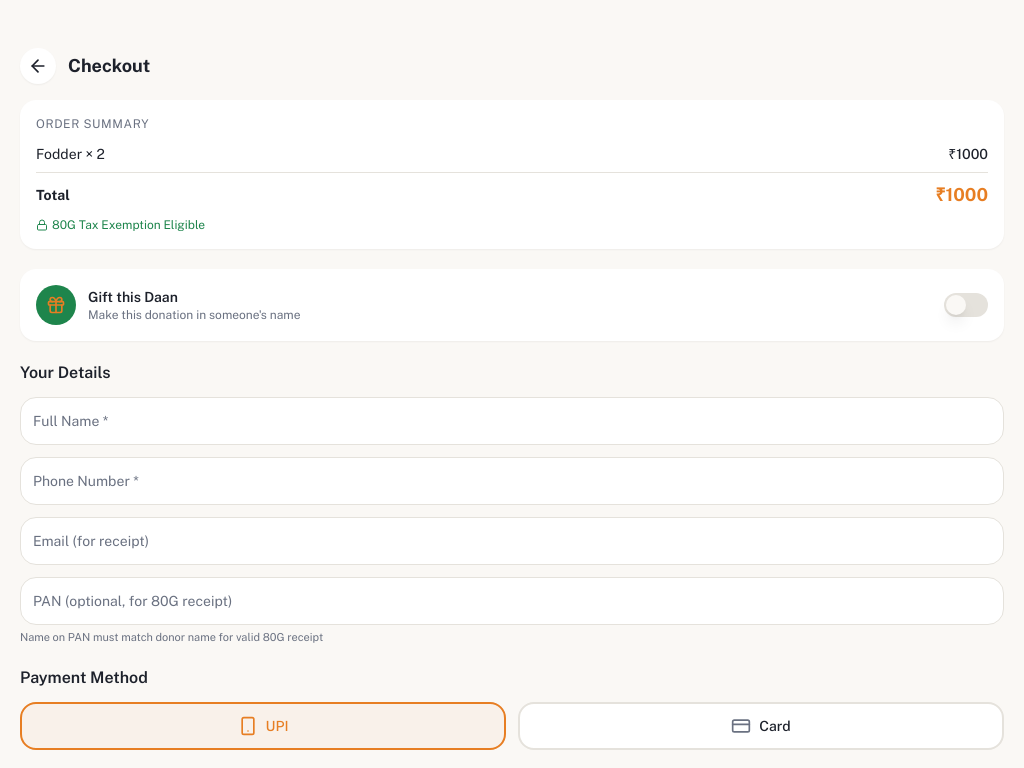
Test: Gift toggle › shows recipient fields when gift is toggled on
Expected: the field with placeholder "Recipient's Name" is not shown
Click the switch at (966, 305), box [944,293,988,317]
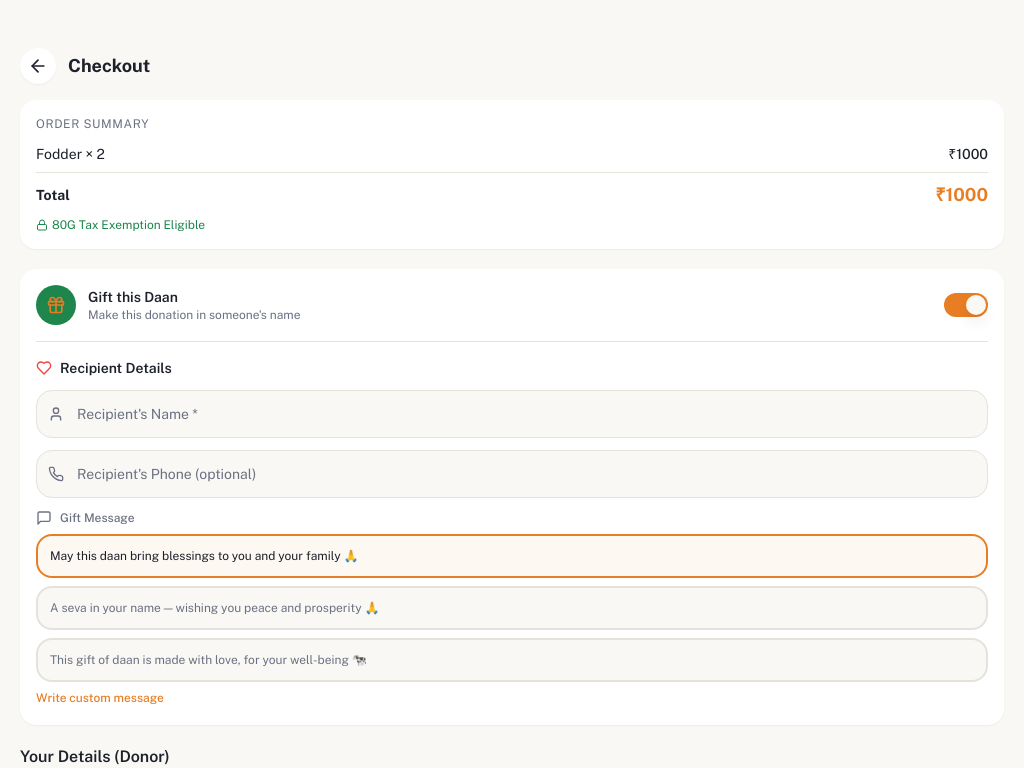
Expected: the field with placeholder "Recipient's Name *" is shown, [36,390,988,438]
Expected: the field with placeholder "Recipient's Phone (optional)" is shown, [36,450,988,498]
